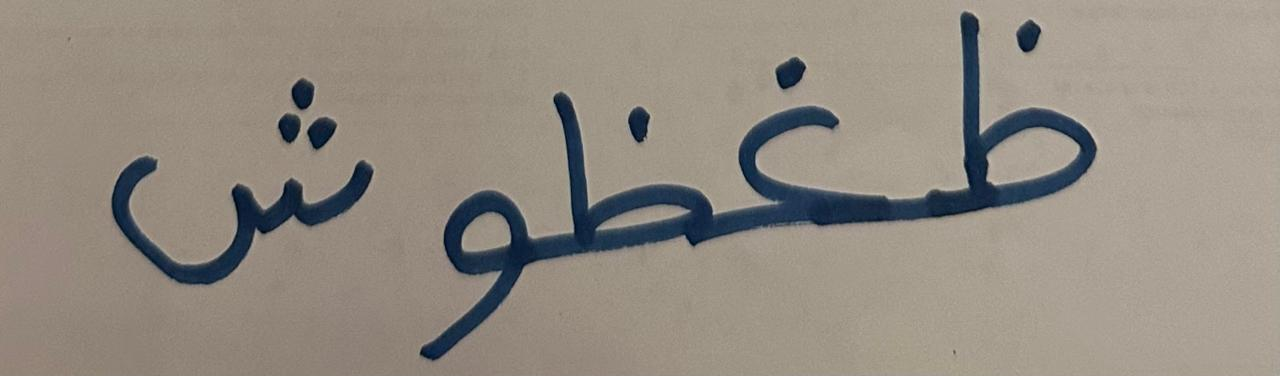ghain: (722, 13, 890, 271)
tah: (79, 27, 384, 312)
yeh: (390, 130, 535, 367)
zain: (895, 7, 1141, 260), (540, 26, 719, 279)
